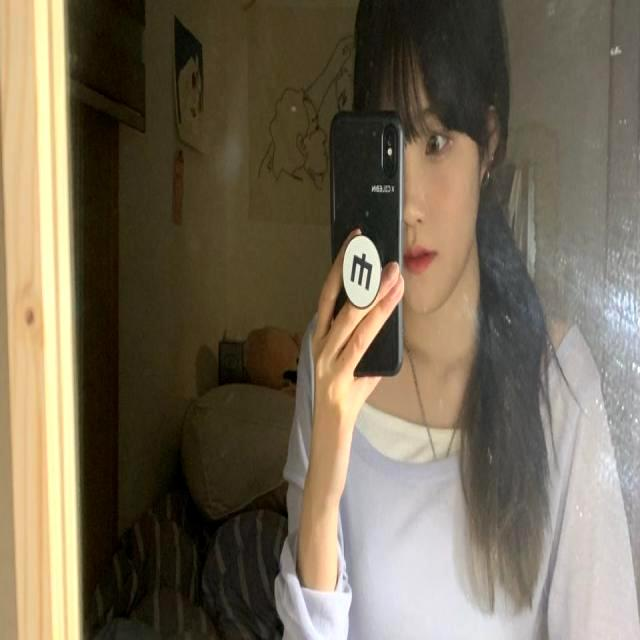lens_back: (381, 126, 398, 145), (383, 158, 397, 176)
phone: (332, 112, 404, 379)
